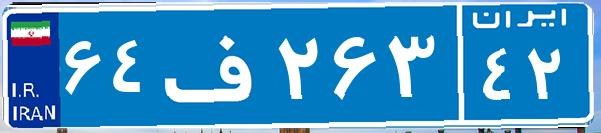2: (273, 28, 330, 110), (525, 38, 570, 115)
3: (385, 28, 445, 110)
4: (475, 38, 525, 113), (110, 28, 158, 105)
6: (330, 28, 385, 110), (57, 26, 110, 107)
ف: (158, 15, 273, 115)
